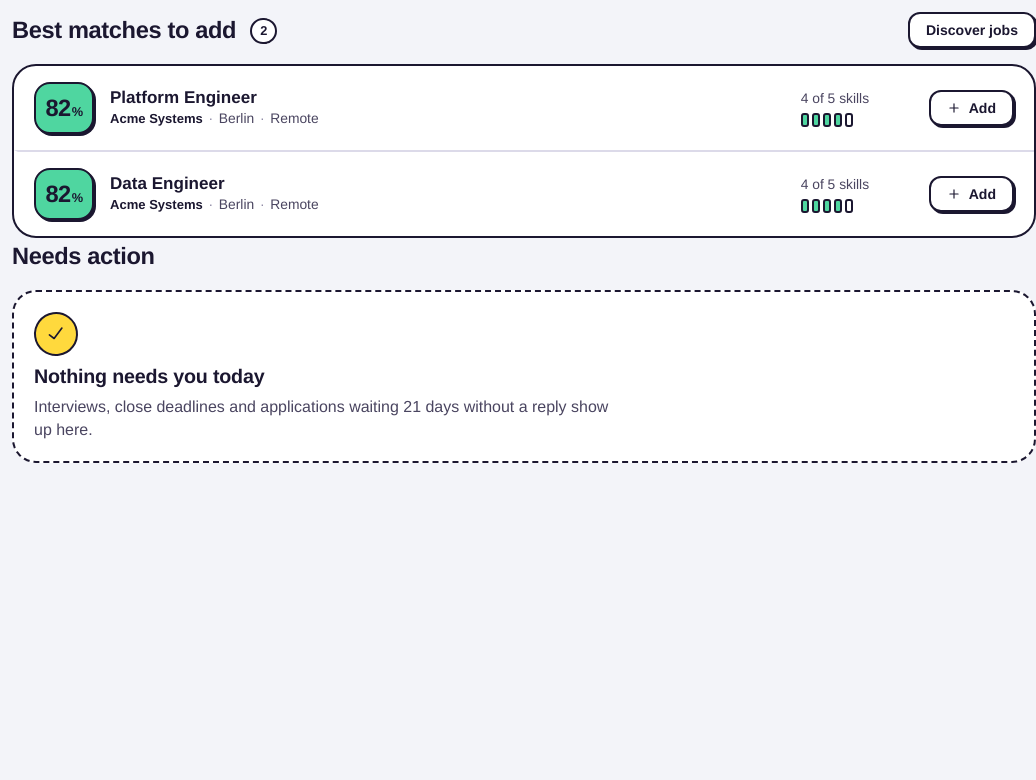
it: DashboardToday › undoes an add: deletes the new application, puts the row back in its place and focuses its Add
What coordinates should you click on to do the following:
click the button with aria-label "Add Platform Engineer to applications"
I would click on:
 (971, 108)
Its box is [929,90,1014,126].
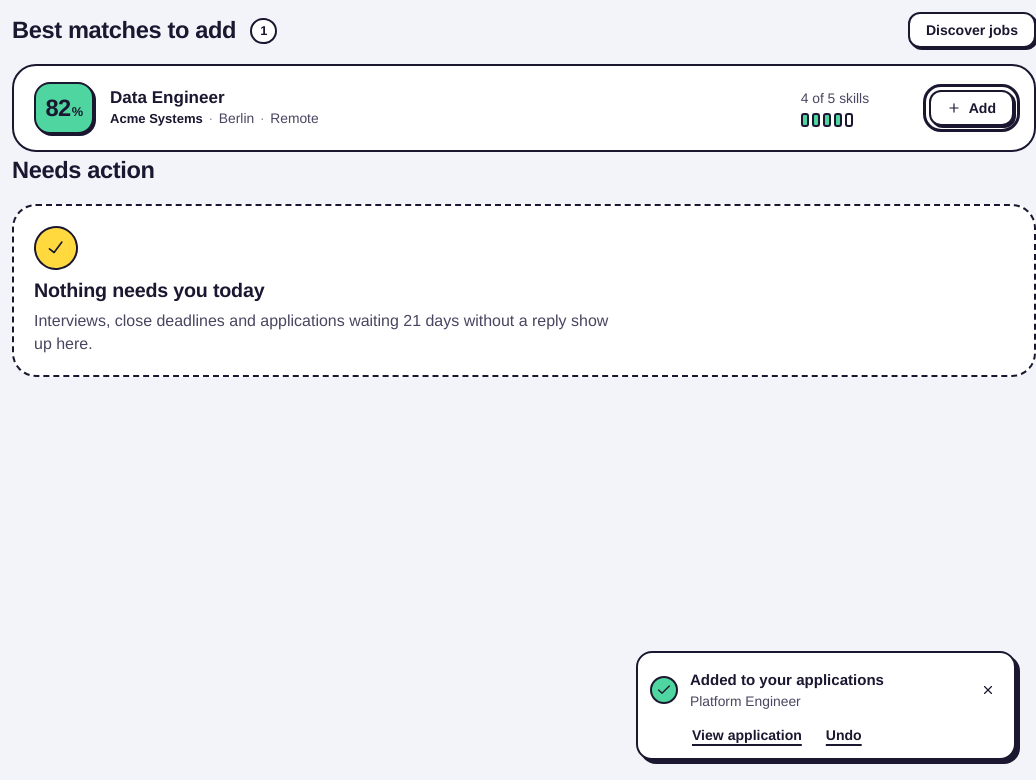
What coordinates should you click on to do the following:
click the button "Undo"
I would click on:
 (844, 735)
Its box is [824,724,864,746].
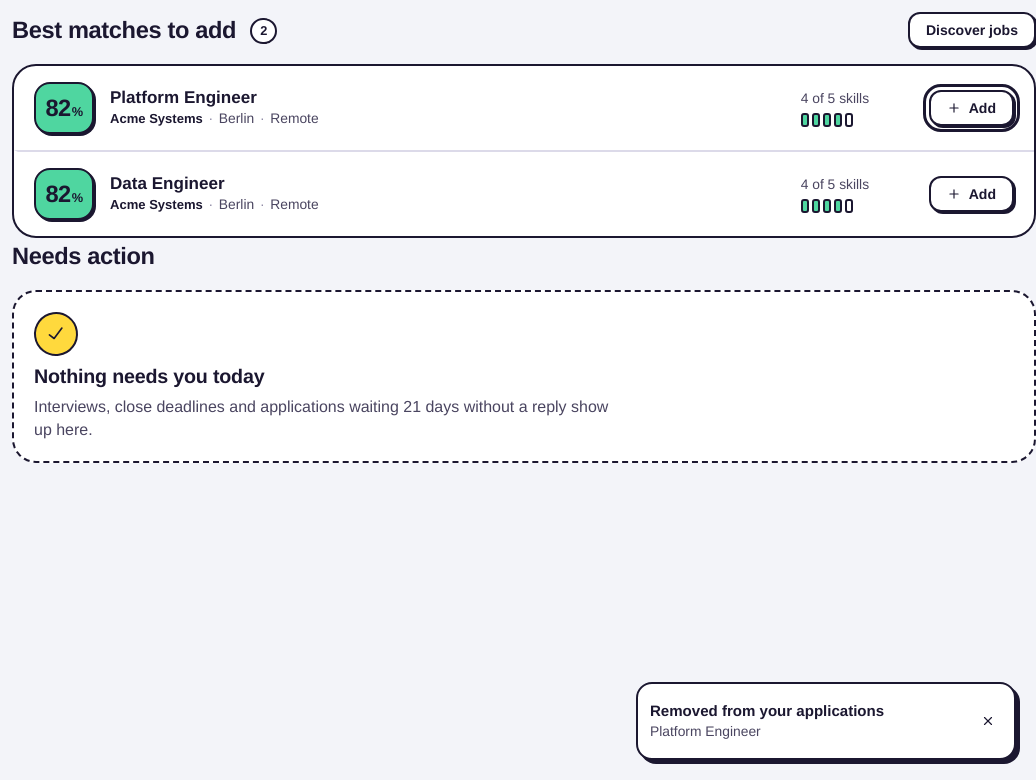
Check: the text "Removed from your applications" is shown, box [650,700,884,720]
